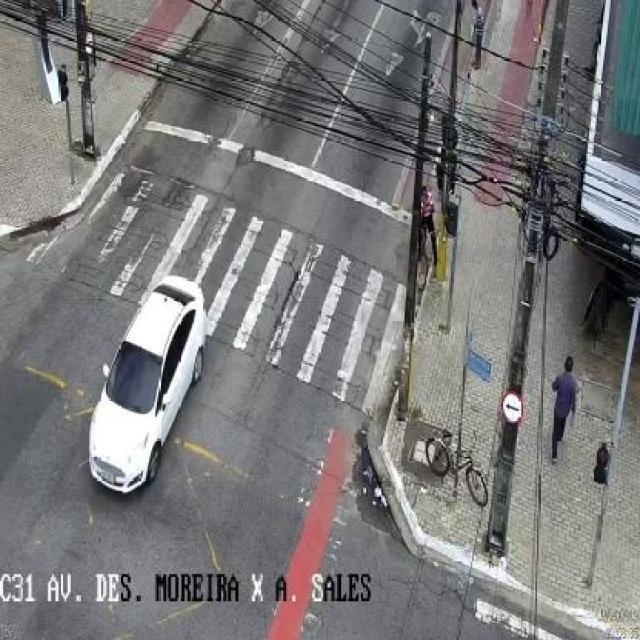Car: (85, 279, 210, 500)
